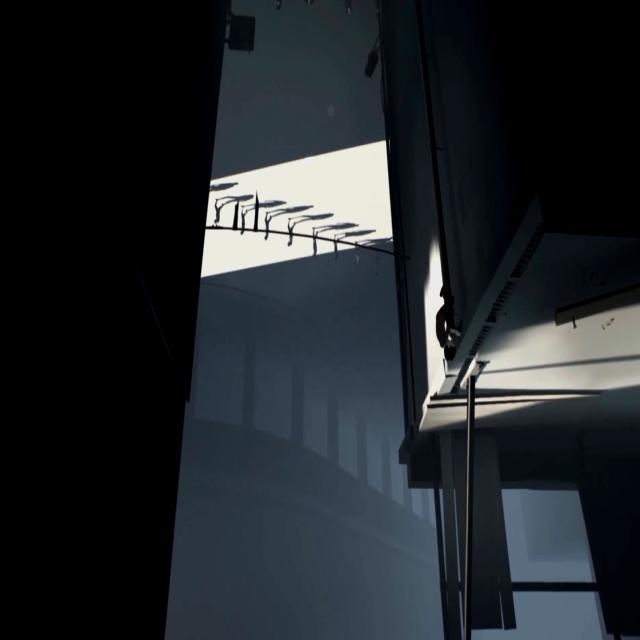boy: (436, 285, 460, 361)
zombie: (287, 218, 296, 248), (214, 198, 223, 226), (264, 212, 272, 240), (312, 227, 318, 258), (373, 0, 382, 19), (241, 206, 247, 234), (344, 0, 352, 16), (333, 237, 338, 261), (375, 249, 379, 277), (356, 242, 361, 264), (304, 0, 316, 5), (277, 0, 281, 11)
